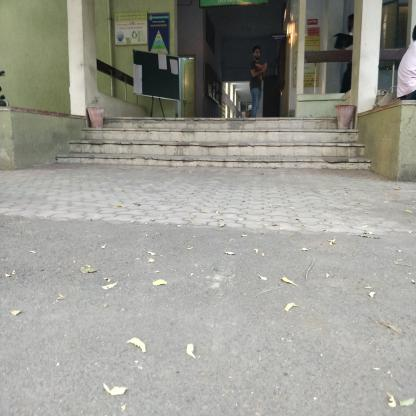stairs: (109, 116, 336, 178)
